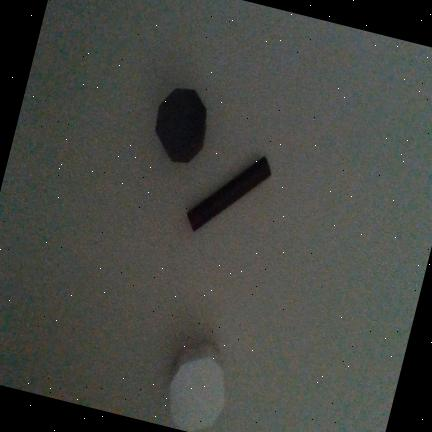Cilindro: (187, 156, 271, 232)
Prisma_hexagonal: (168, 343, 225, 432), (154, 87, 207, 163)
